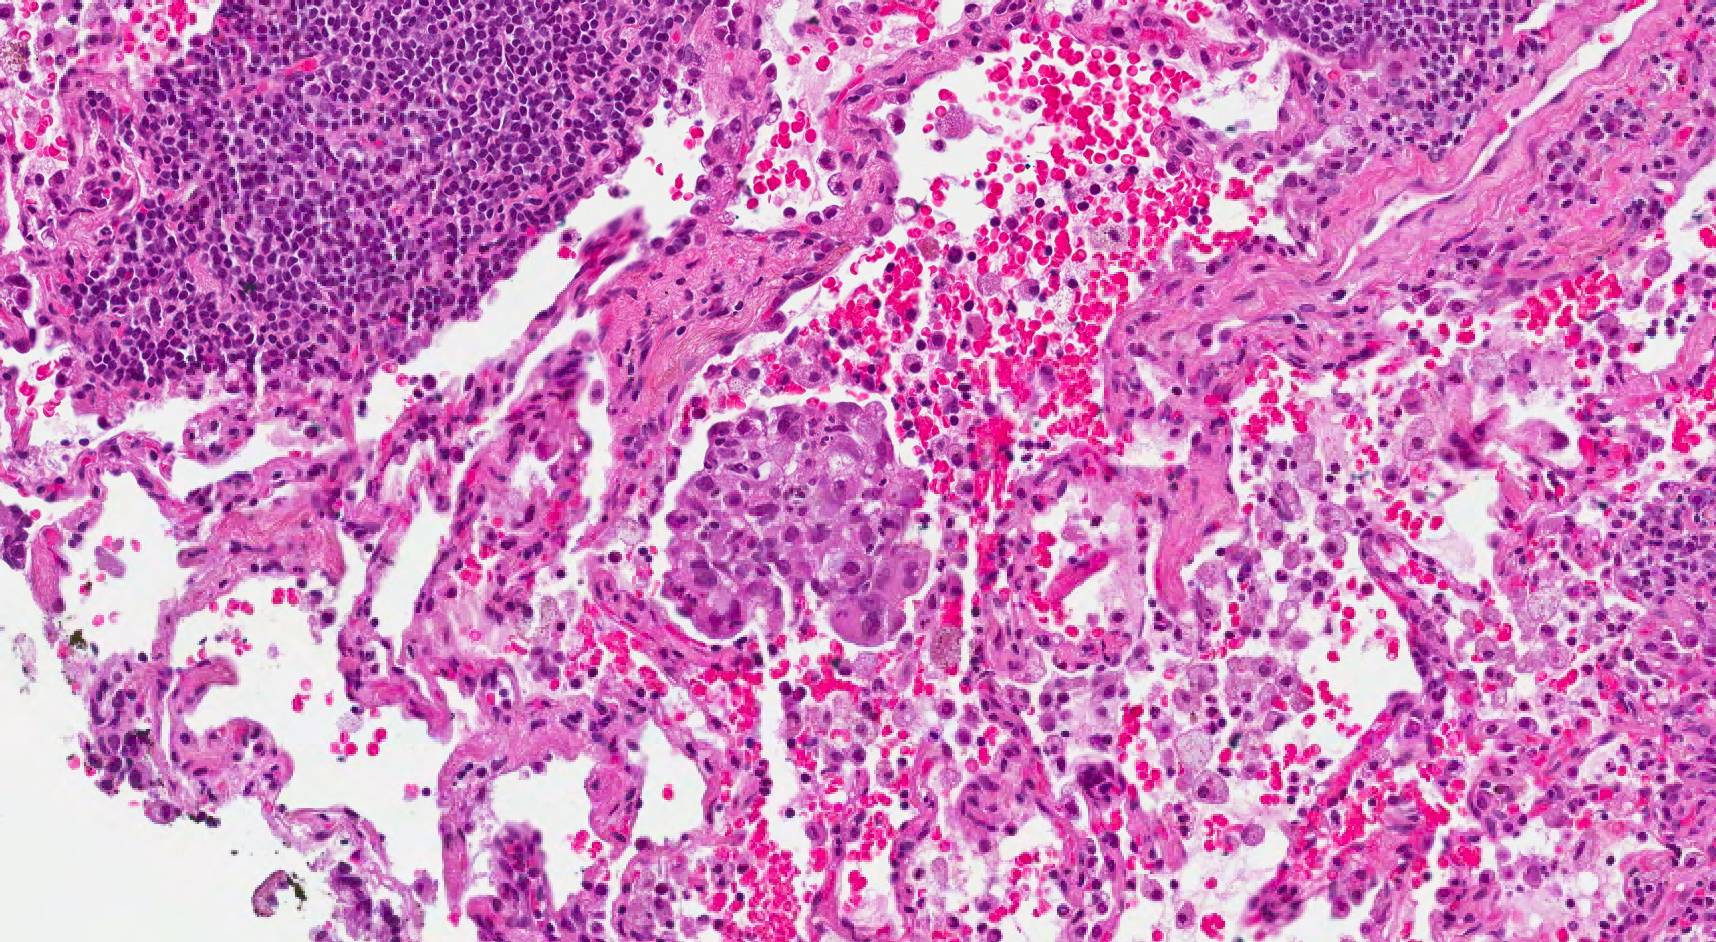stas: (666, 393, 933, 645)
